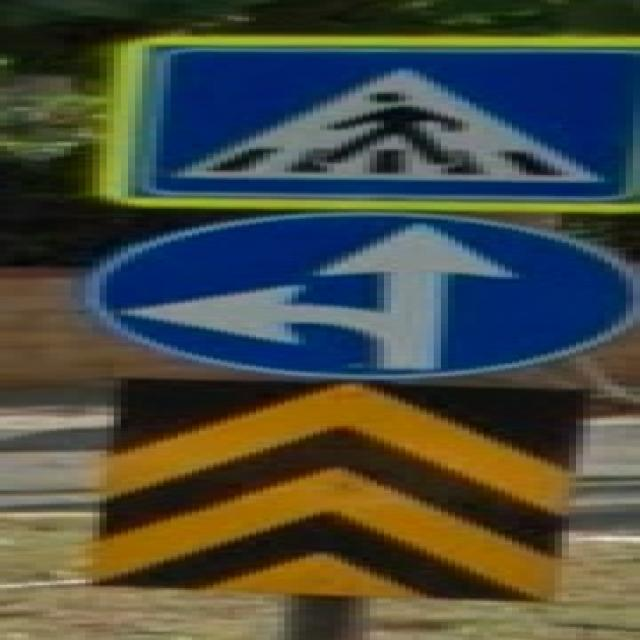Straight or Left: (79, 212, 640, 380)
